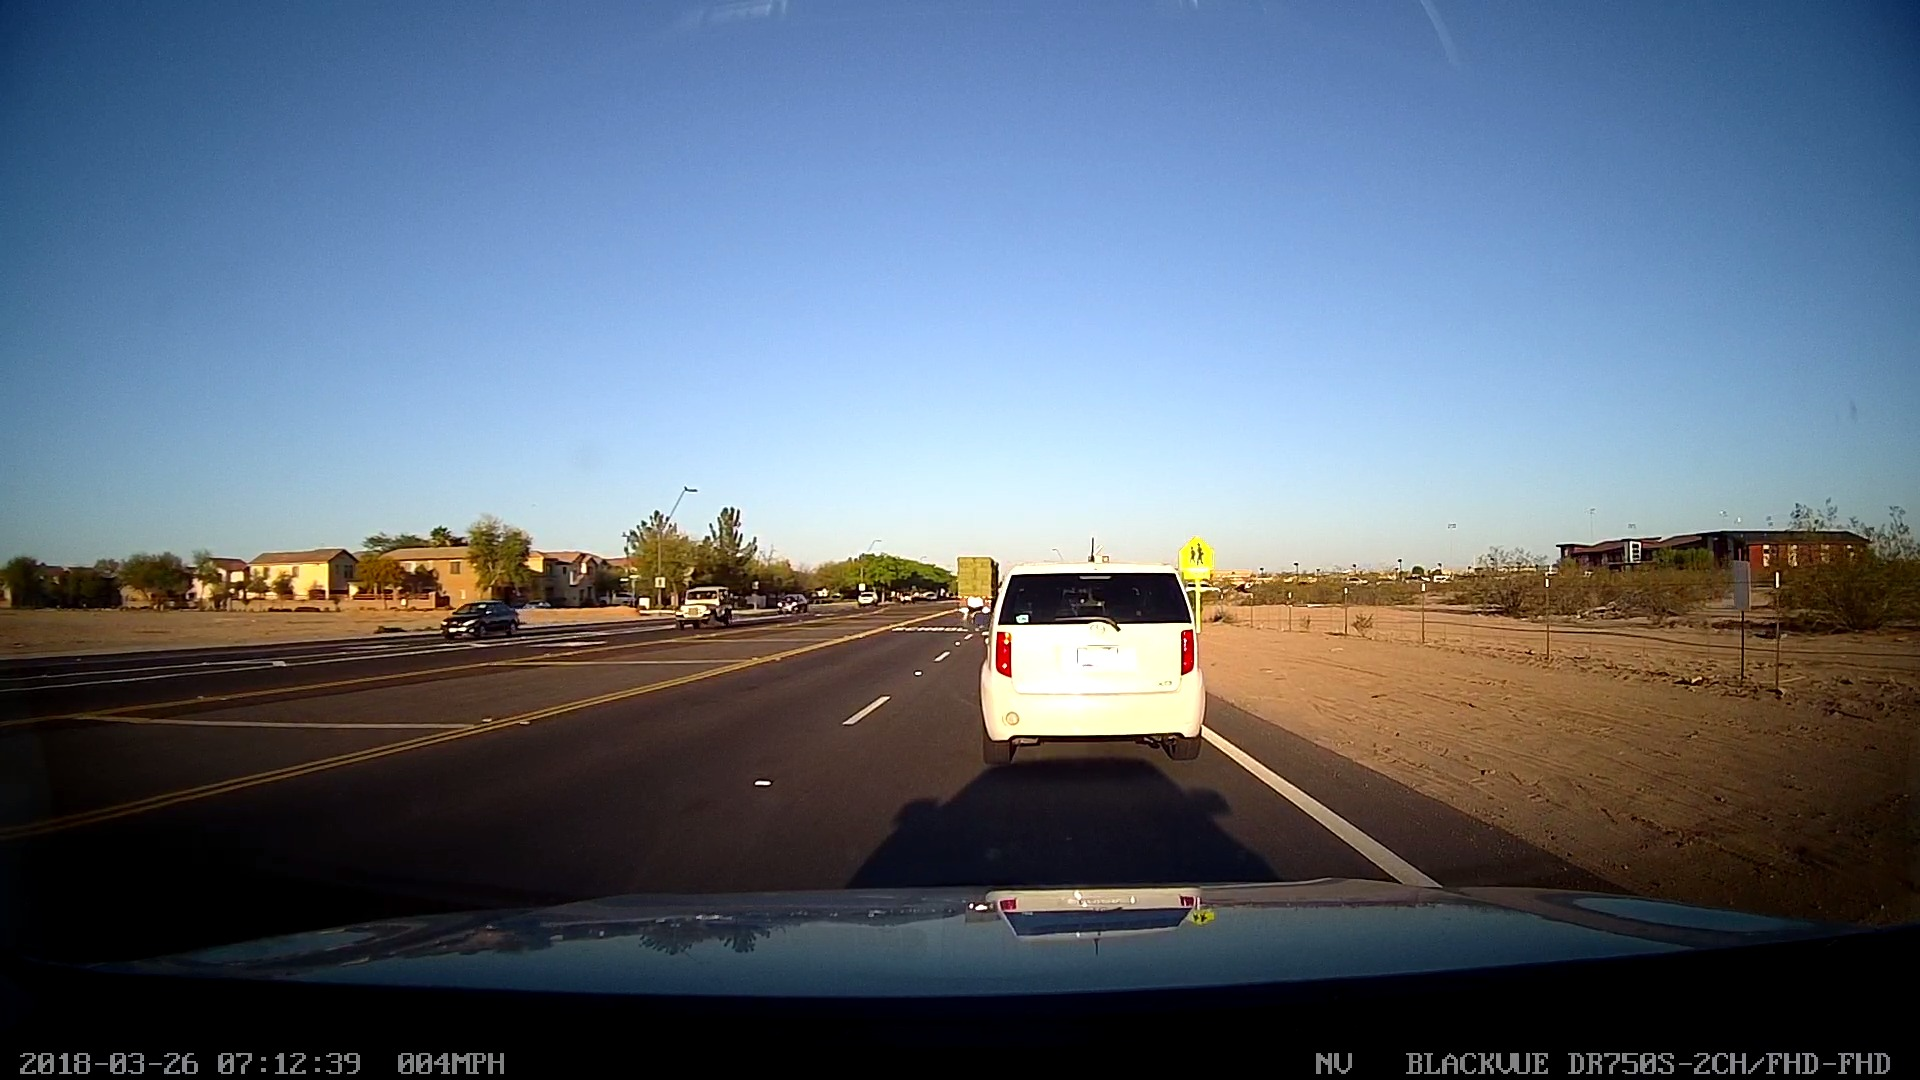plate: (1066, 633, 1123, 673)
vehicle: (977, 561, 1210, 762), (434, 597, 522, 642), (949, 548, 999, 619), (670, 582, 733, 630), (772, 588, 809, 617), (851, 583, 880, 613)
